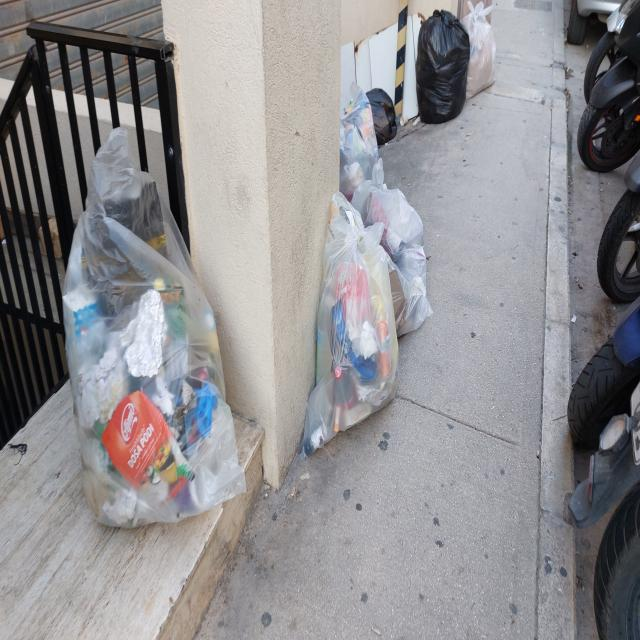Mixed Waste -Black Bag-: (417, 13, 470, 124), (368, 86, 398, 146)
Organic Waste -White Bag-: (64, 151, 244, 520), (300, 210, 399, 461), (352, 181, 431, 334), (340, 88, 383, 201), (461, 10, 498, 102)
